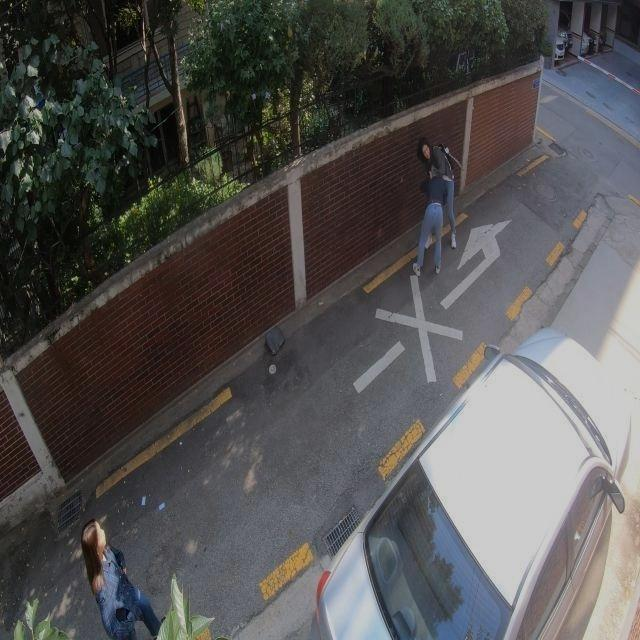fight: (415, 140, 463, 276)
